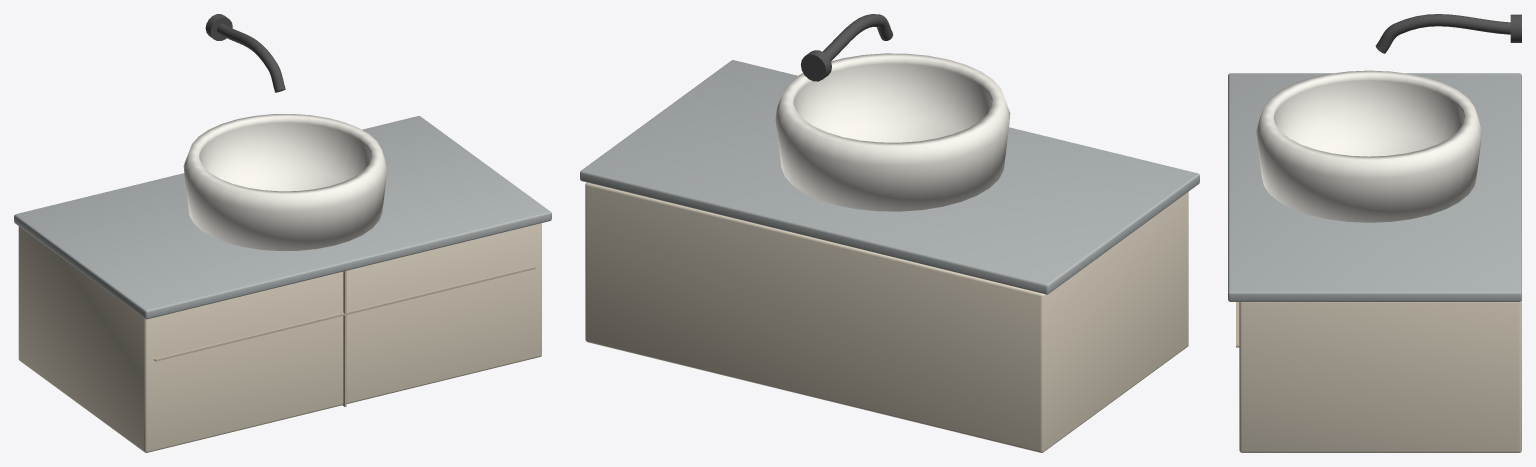
File: sg_vanity.glb
3 views of the same model, side by side, from view 1: azimuth 30°, elevation 25°; view 2: azimuth 150°, elevation 25°; view 3: azimuth 270°, elevation 25° (orthographic). The views are drawn at different scales.
Parts seen in each view (by area): view 1: body, top, basin, gaph, spout, gap; view 2: body, top, basin, spout, mixer; view 3: body, top, basin, spout, mixer.
Part boxes in pixels (x1=…): body: x1=18, y1=223, x2=541, y2=452; top: x1=14, y1=116, x2=551, y2=319; basin: x1=183, y1=114, x2=387, y2=250; gaph: x1=154, y1=266, x2=535, y2=361; spout: x1=217, y1=24, x2=285, y2=92; gap: x1=342, y1=270, x2=346, y2=406; body: x1=585, y1=182, x2=1188, y2=452; top: x1=580, y1=60, x2=1199, y2=294; basin: x1=775, y1=53, x2=1010, y2=211; spout: x1=808, y1=14, x2=892, y2=73; mixer: x1=801, y1=50, x2=831, y2=81; body: x1=1239, y1=300, x2=1521, y2=452; top: x1=1228, y1=73, x2=1521, y2=301; basin: x1=1256, y1=70, x2=1482, y2=222; spout: x1=1375, y1=14, x2=1510, y2=53; mixer: x1=1510, y1=14, x2=1521, y2=42.
Bounding box in the file's own units: 0.92 × 0.6481 × 0.52.
